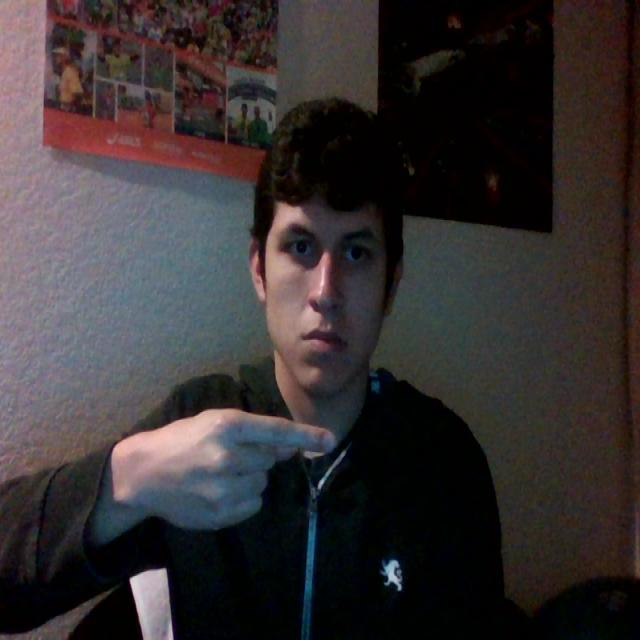G: (107, 391, 362, 537)
